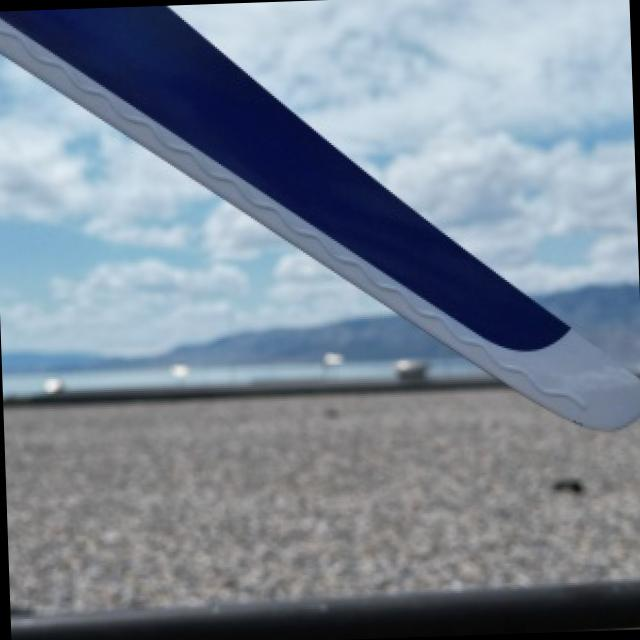healthy: (0, 5, 640, 426)
